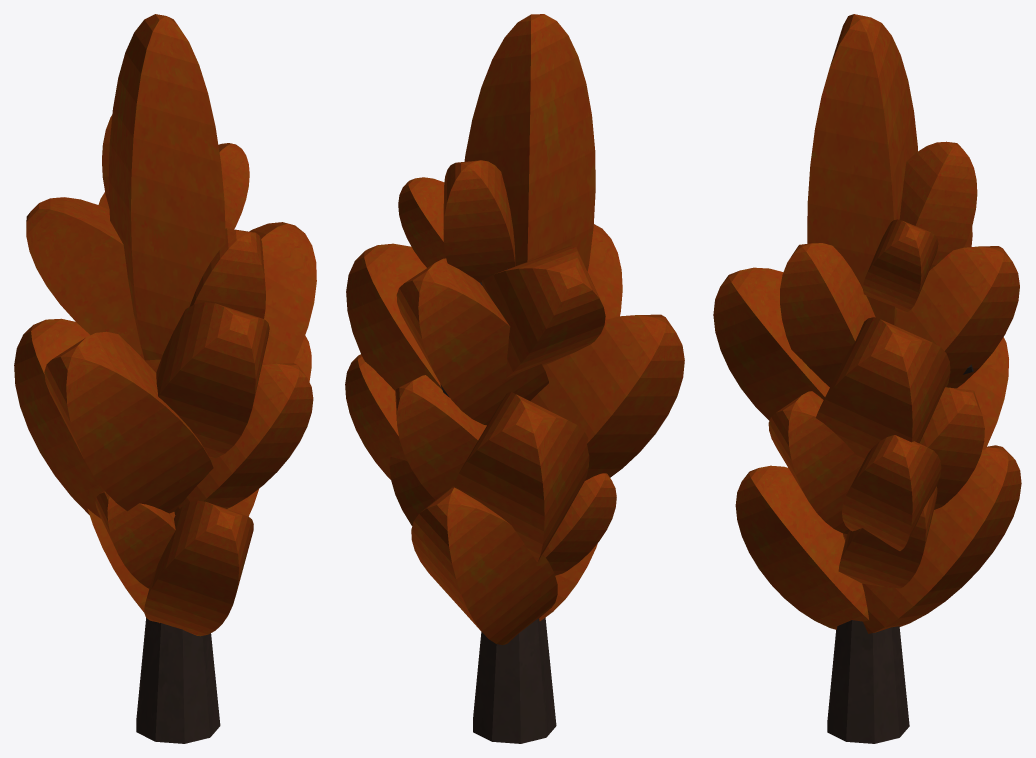
File: tree-green-orange-flowers_8.fbx
3 renders of one model, left to right at view 1: azimuth 30°, elevation 25°; view 2: azimuth 150°, elevation 25°; view 3: azimuth 270°, elevation 25°, orthographic. The views are drawn at different scales.
Parts seen in each view (by area): view 1: Sphere.003; view 2: Sphere.003; view 3: Sphere.003.
Boxes of the visible parts, box(x1,y1,x2,y2) form: Sphere.003: box(14, 14, 316, 743); Sphere.003: box(345, 14, 684, 743); Sphere.003: box(713, 14, 1021, 743).
Size of the model in its own units: 178 by 424 by 169.
